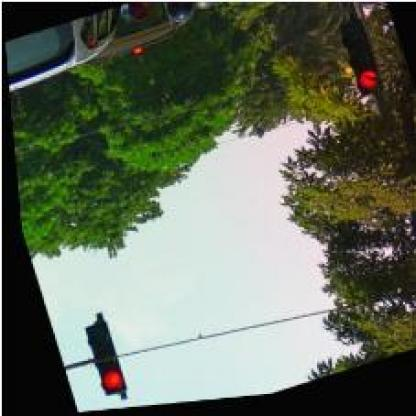red: (334, 22, 380, 103), (75, 319, 119, 399)
